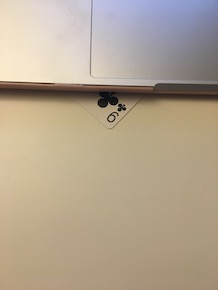NineOfClubs: (52, 77, 153, 132)
